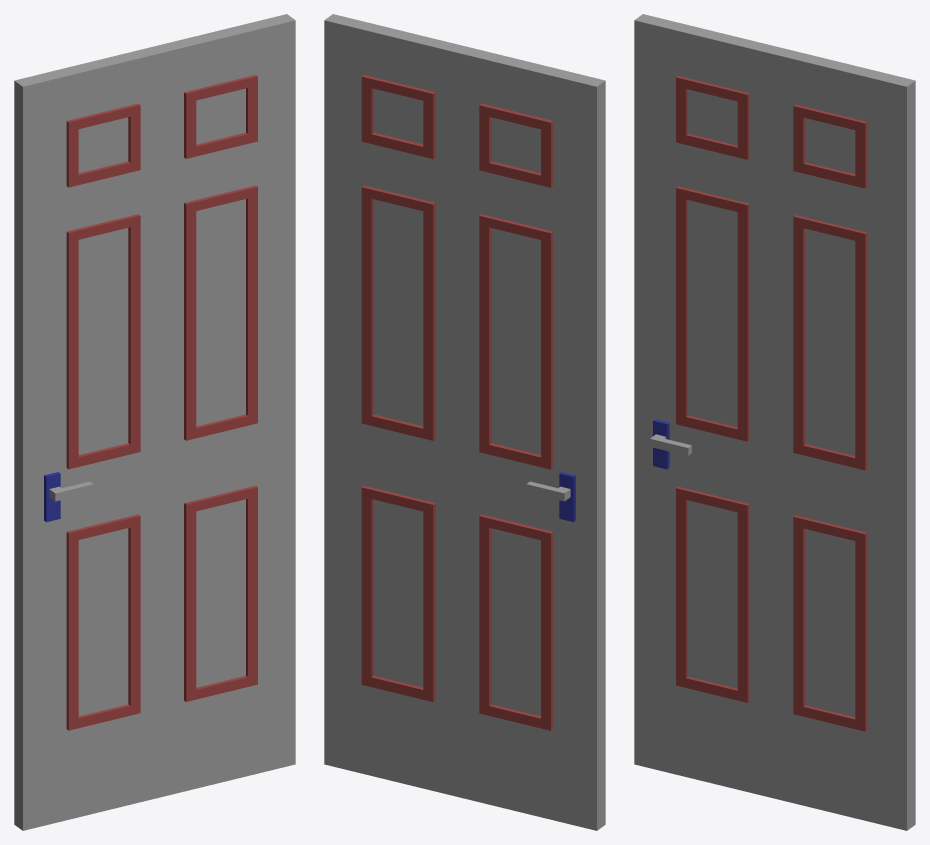
Rendered from Door_b_L.fbx.
3 renders of one model, left to right at view 1: azimuth 30°, elevation 25°; view 2: azimuth 150°, elevation 25°; view 3: azimuth 330°, elevation 25°, orthographic.
Visible parts, largest first — view 1: Door_b_L; view 2: Door_b_L; view 3: Door_b_L.
Part boxes in pixels (x1,y1,x2,y2): Door_b_L: [14, 14, 295, 830]; Door_b_L: [324, 14, 605, 830]; Door_b_L: [634, 14, 915, 830].
Bounding box in the file's own units: 0.8 × 0.1291 × 2.09.
